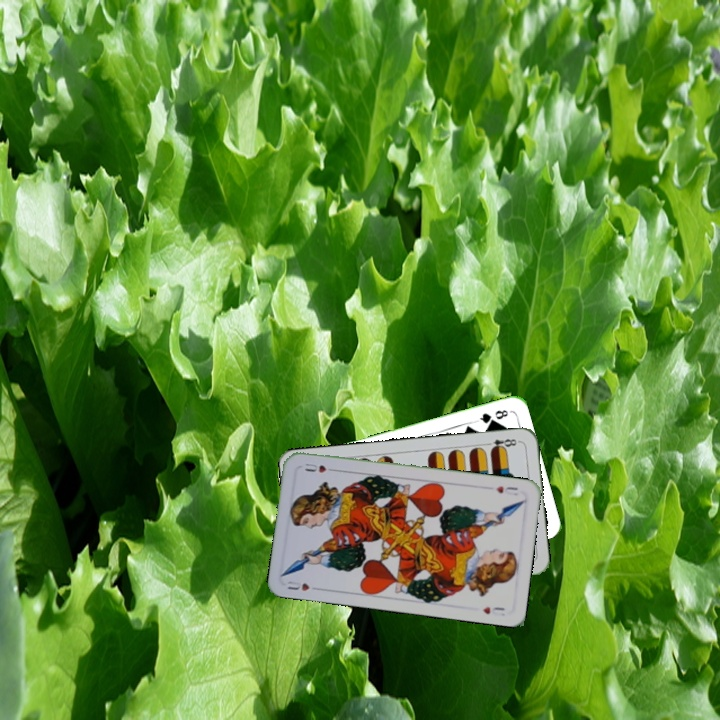E8: (481, 435, 522, 453)
G8: (473, 406, 511, 426)
HU: (283, 577, 322, 594), (492, 482, 521, 498)
